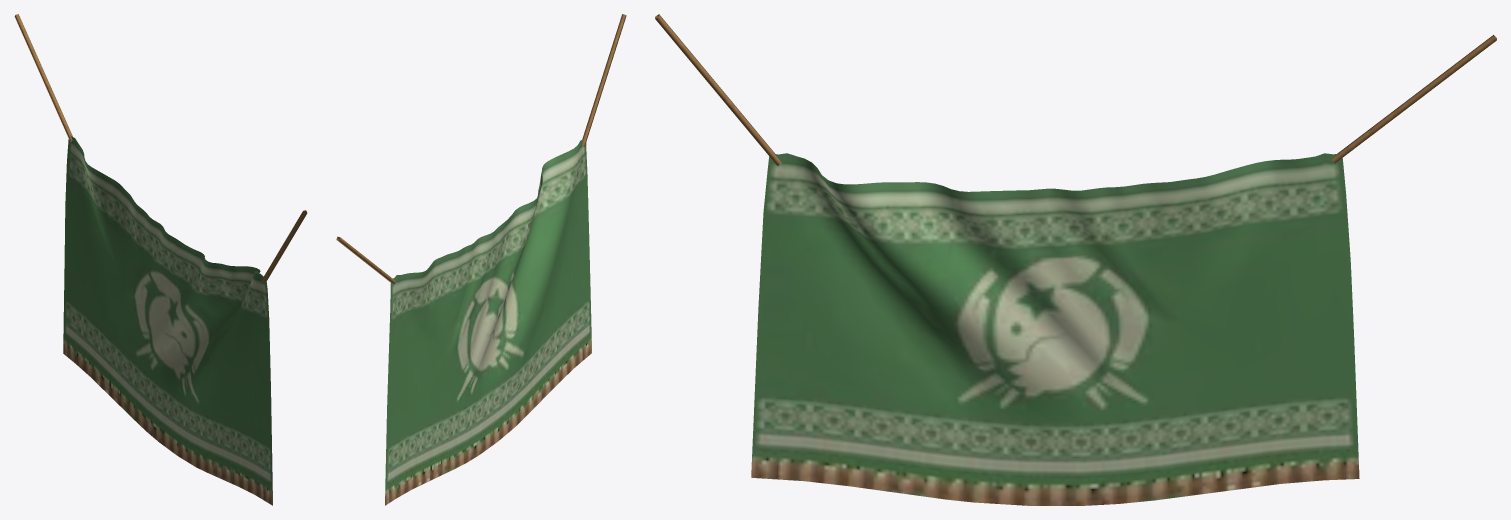
Rendered from SM_ConservationGroupBannerB_1818f5.glb.
3 renders of one model, left to right at view 1: azimuth 30°, elevation 25°; view 2: azimuth 150°, elevation 25°; view 3: azimuth 270°, elevation 25°, orthographic. The views are drawn at different scales.
Size of the model in its own units: 0.1207 by 1.59 by 2.48.
Materials: 1 (1 with a texture image).
